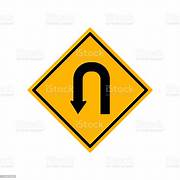back: (28, 27, 152, 153)
